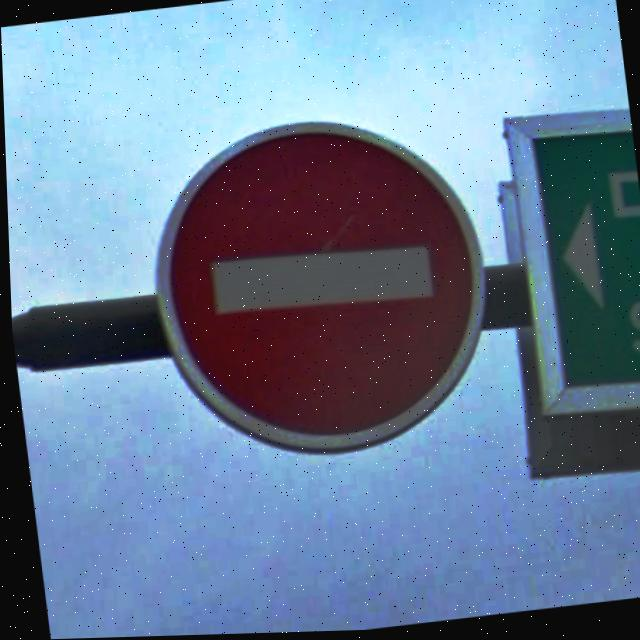noentry: (130, 100, 504, 475)
